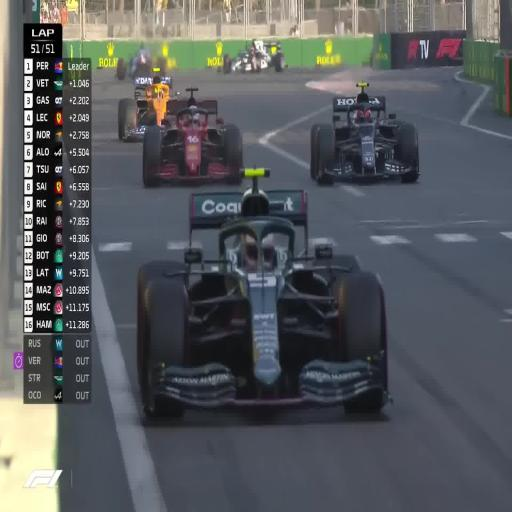f1_car: (137, 169, 389, 417), (310, 83, 419, 184), (142, 88, 243, 186), (118, 68, 179, 141), (219, 39, 287, 73), (115, 46, 166, 80)
